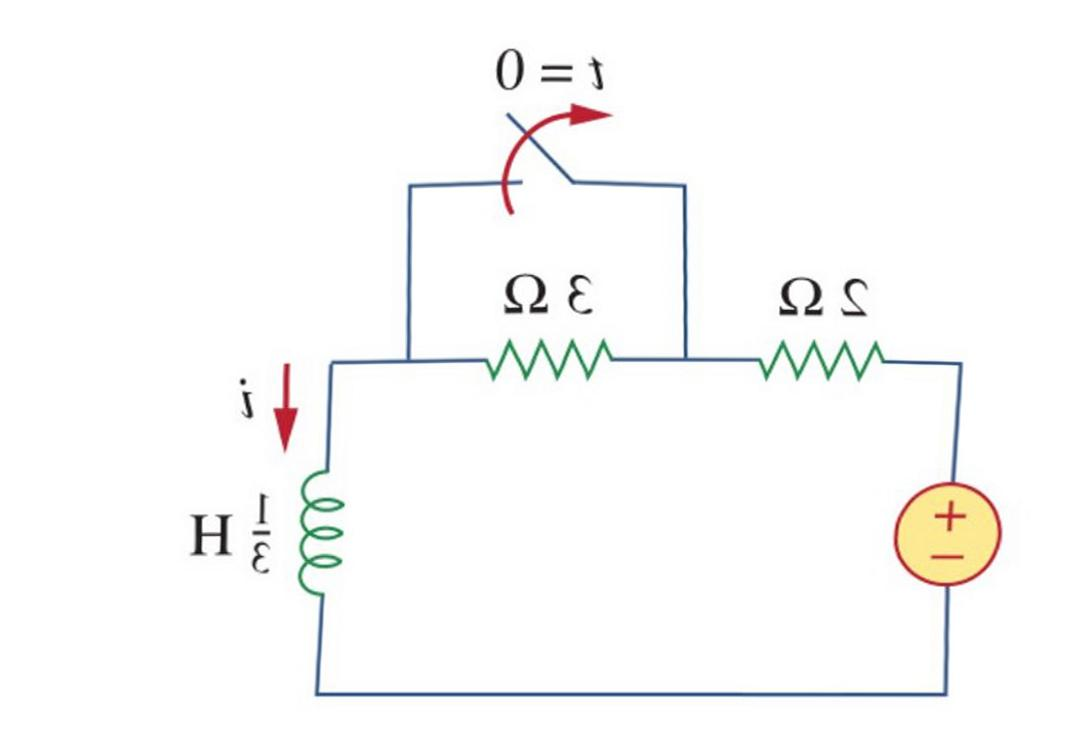Battery: (865, 450, 1016, 614)
